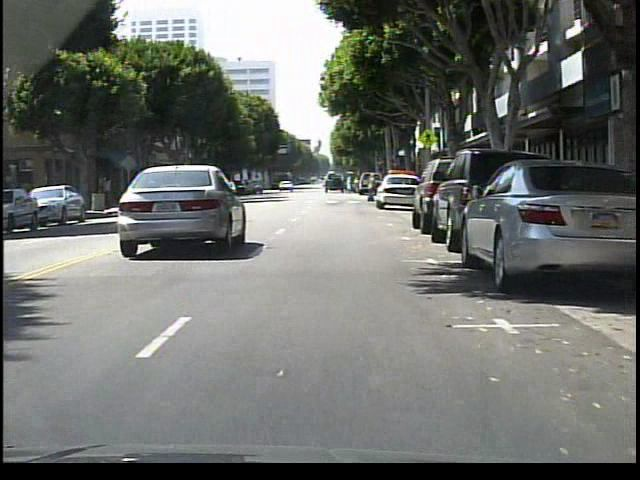person: (364, 173, 379, 204), (103, 176, 115, 208), (351, 172, 352, 192)
